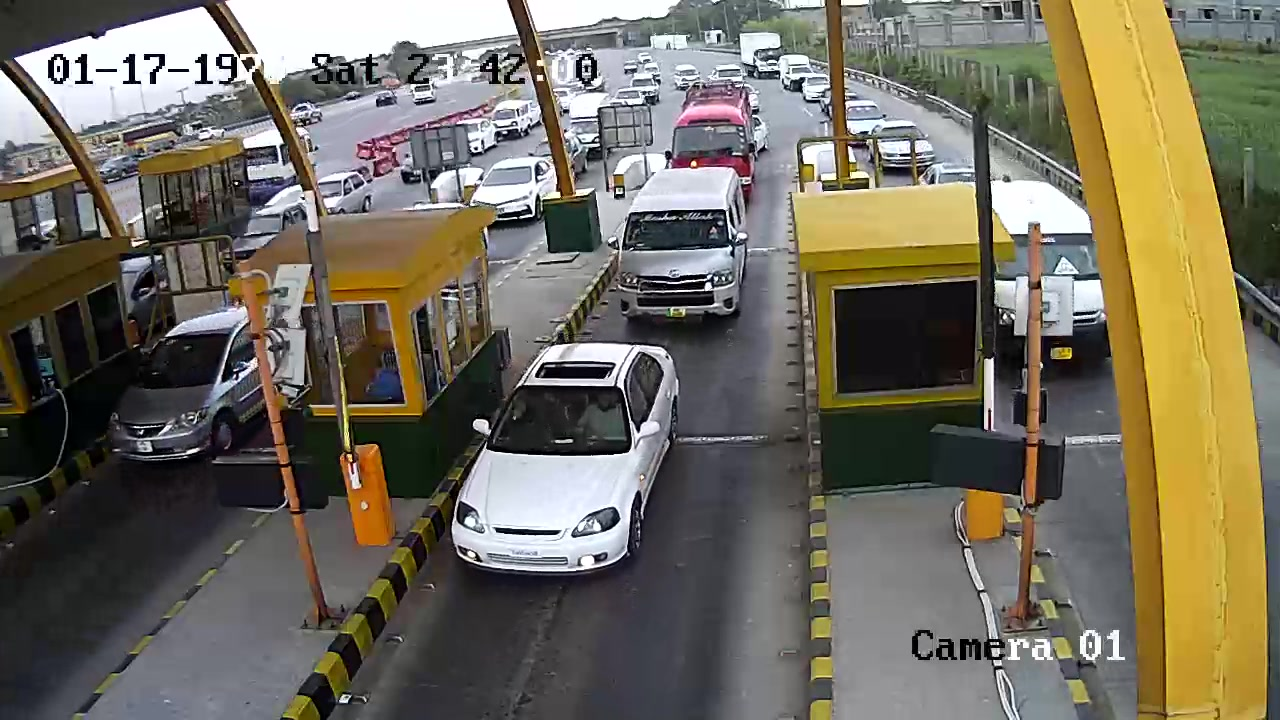F1: (441, 339, 699, 587)
F2: (610, 160, 746, 335)
